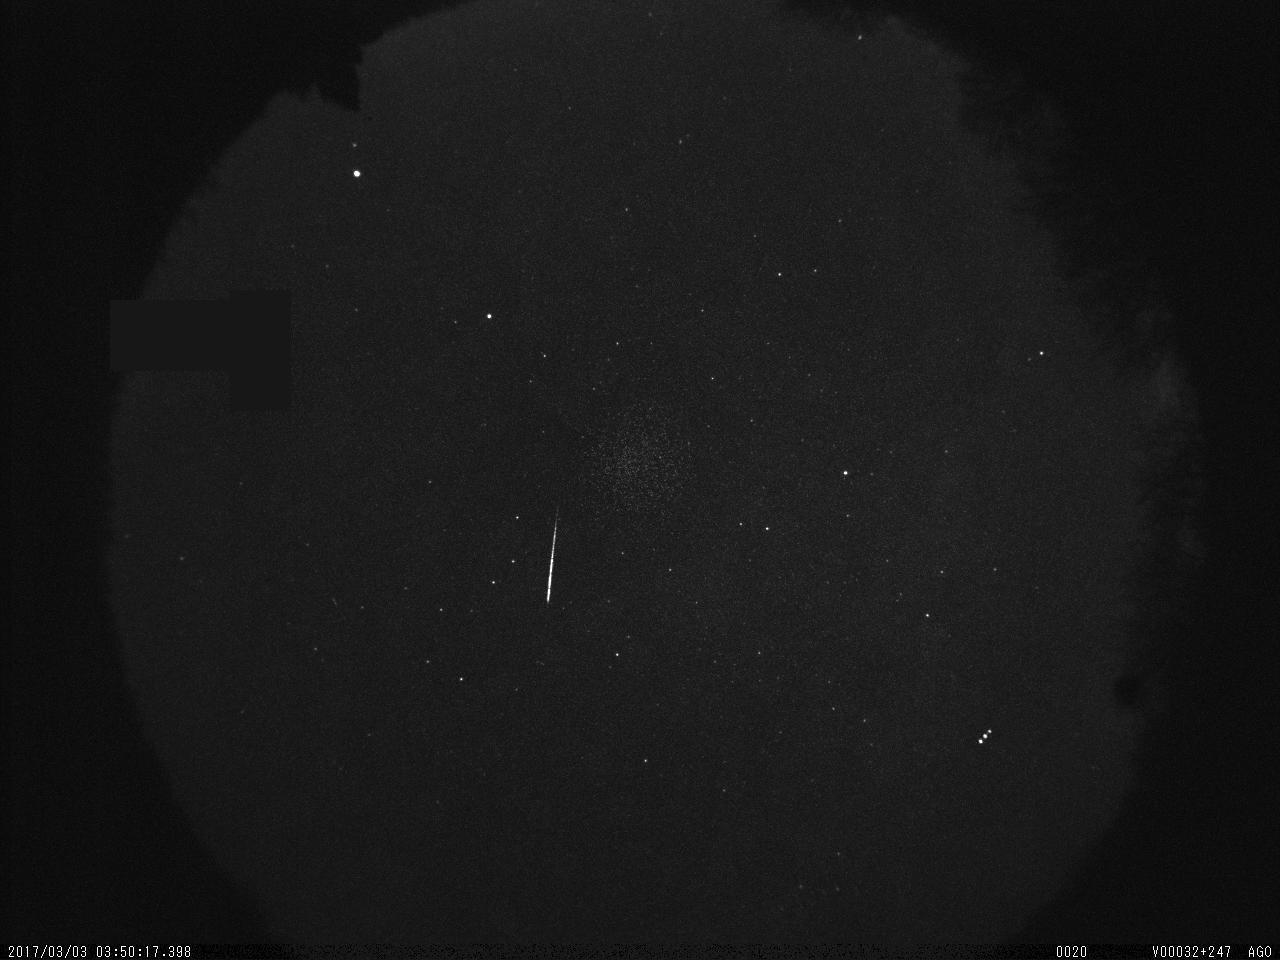meteor: (532, 495, 568, 614)
satelite: (971, 721, 996, 751)
